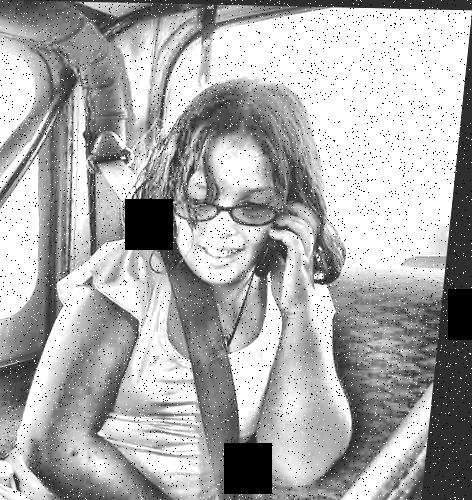seatbelt: (76, 129, 296, 463)
